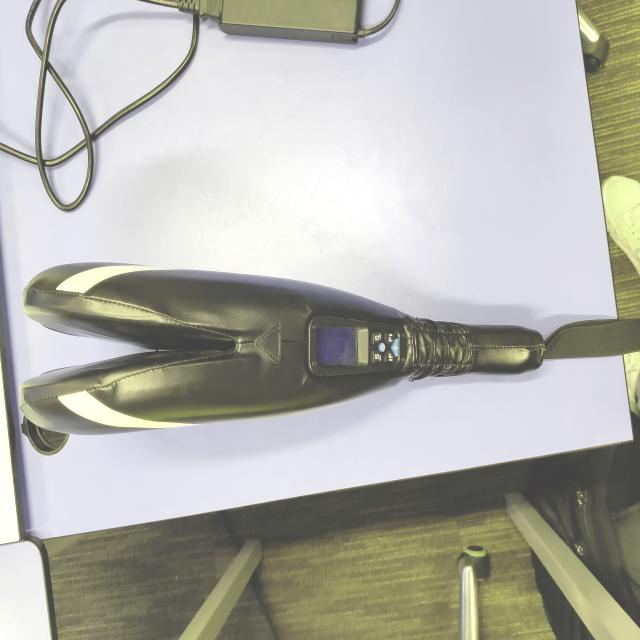paddle: (16, 258, 548, 438)
